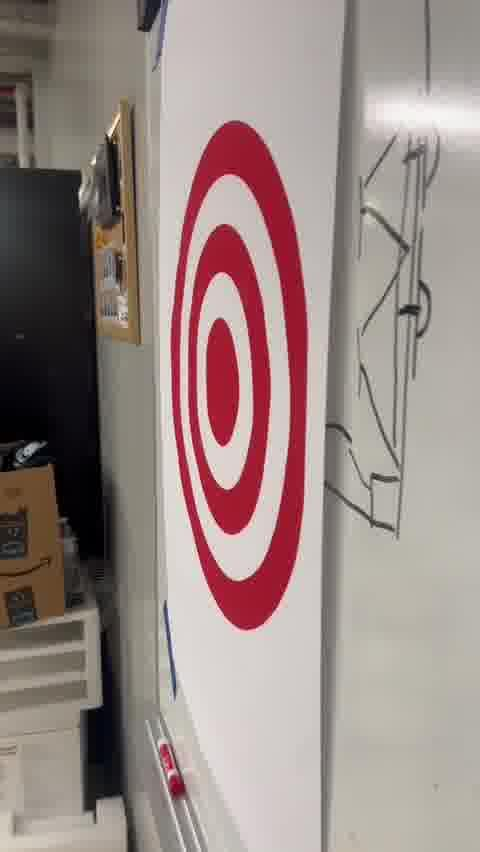target_red: (172, 121, 308, 631)
